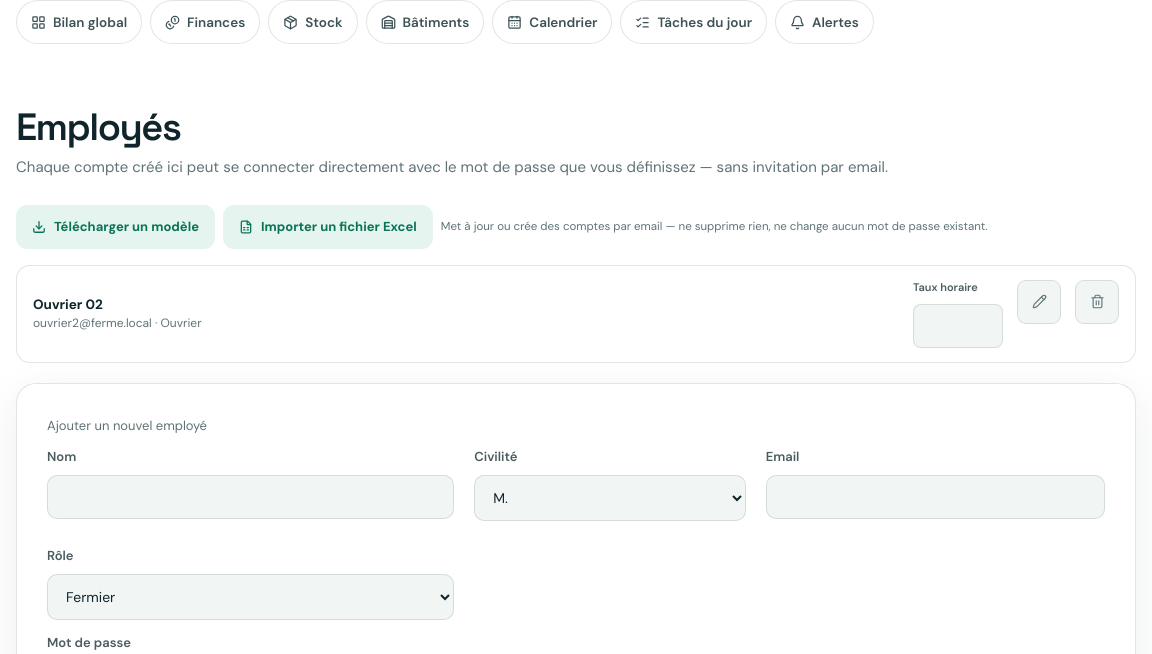
EmployeesPage — per-row actions › a failed deletion says why instead of leaving the row silently in place
What coordinates should you click on to do the following:
click the button named "Supprimer"
I would click on:
 (1097, 302)
Its box is [1075,280,1119,324].
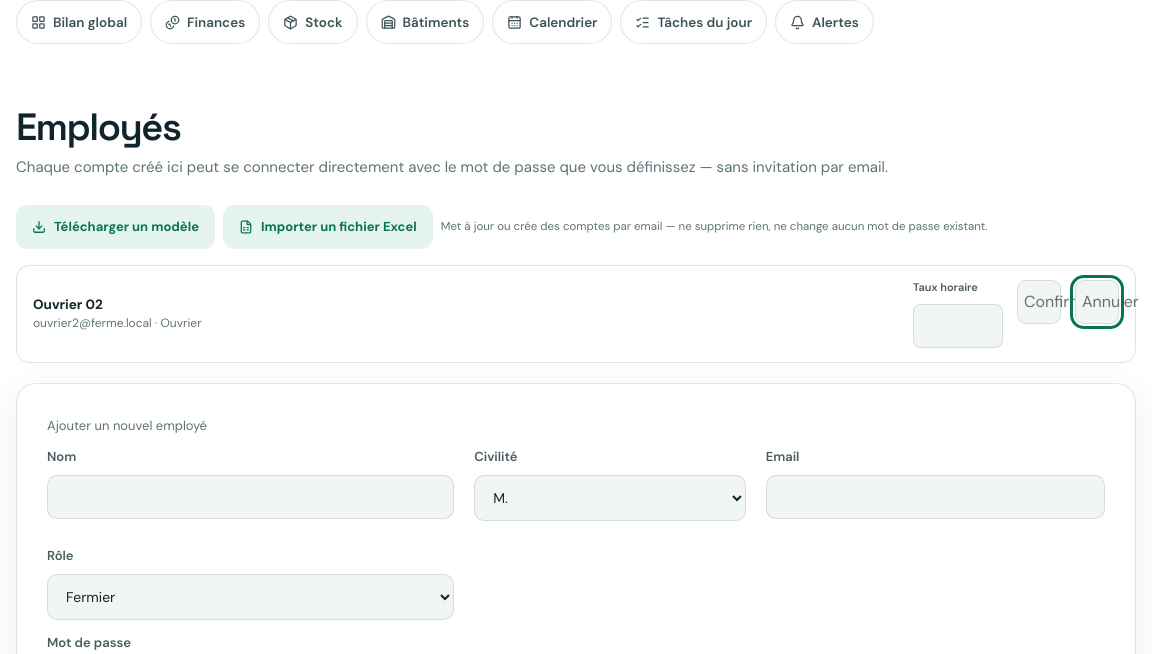
What coordinates should you click on to do the following:
click the button "Confirmer"
I would click on:
 (1039, 302)
Its box is [1017,280,1061,324].
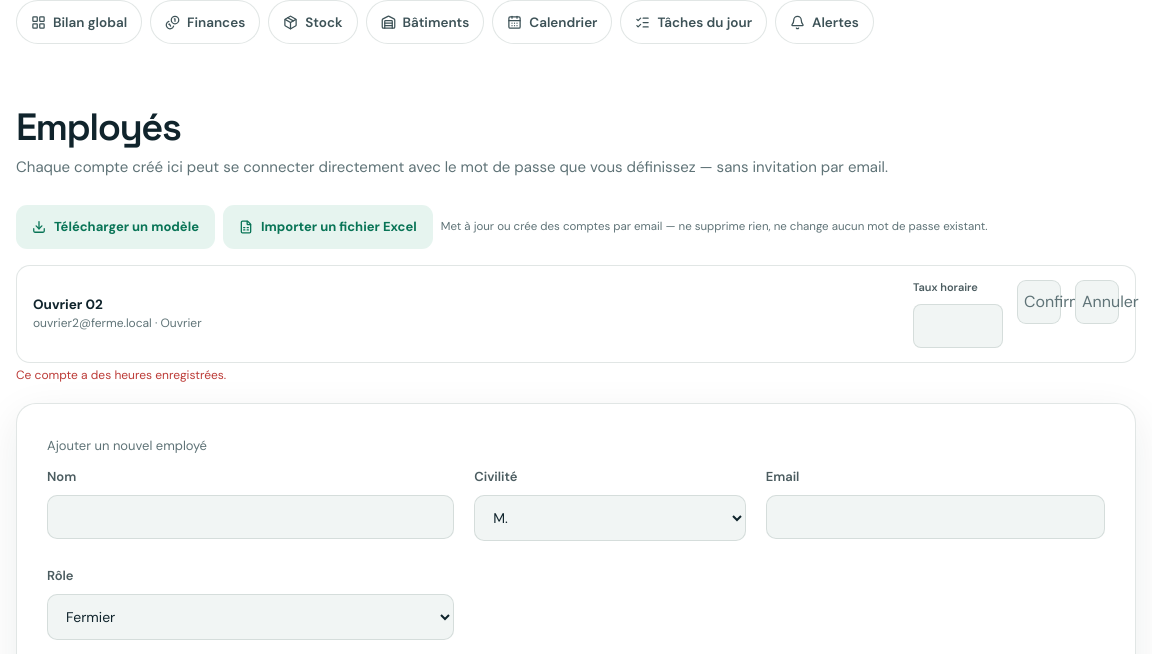
expect the text "Ouvrier 02" is shown: met, box [33,296,103,313]
expect the message reads "Ce compte a des heures enregistrées.": met, box [16,367,226,383]
